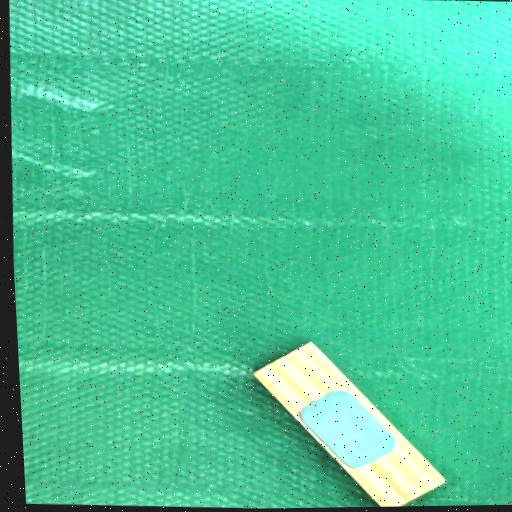objects: (252, 330, 446, 512)
